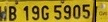character: (8, 5, 17, 21), (53, 4, 62, 20), (31, 5, 40, 20), (41, 4, 49, 20), (82, 3, 90, 19), (63, 4, 71, 19), (73, 4, 81, 19), (23, 5, 29, 21)
